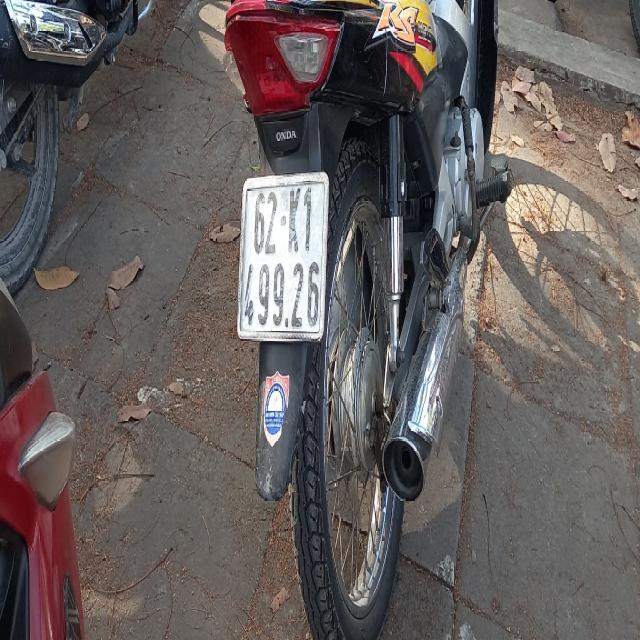1: (304, 187, 312, 250)
2: (265, 191, 279, 254), (292, 262, 303, 328)
4: (243, 263, 254, 325)
6: (252, 192, 265, 252), (308, 261, 319, 328)
9: (258, 264, 269, 326), (273, 264, 283, 326)
K: (288, 188, 300, 254)
